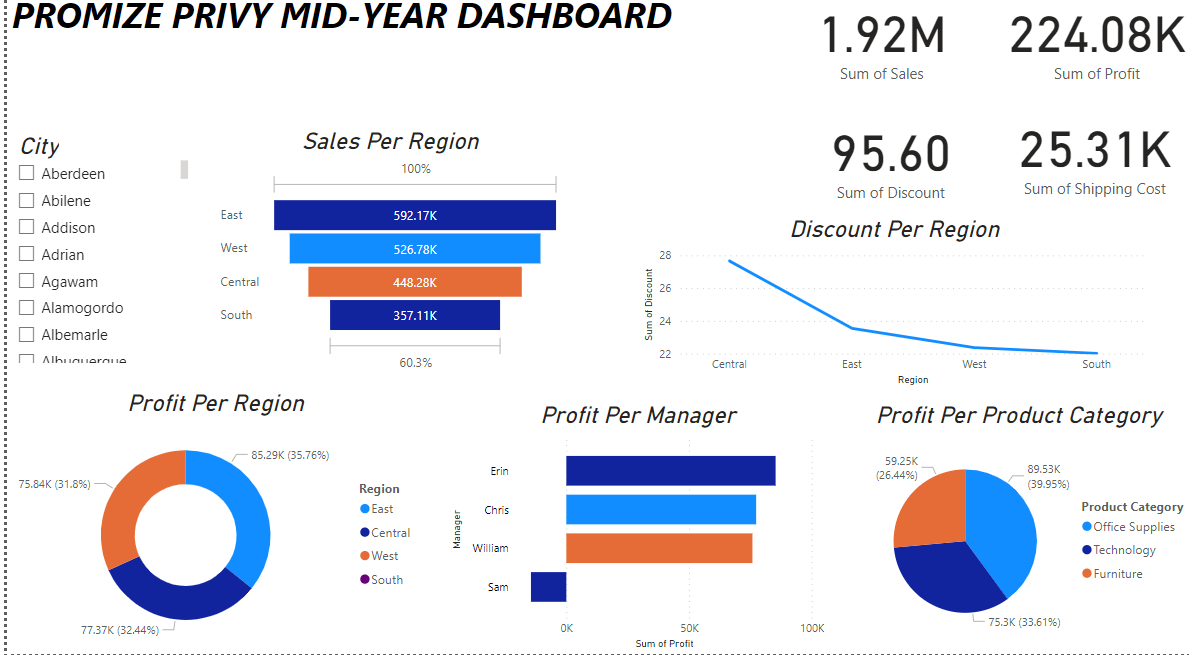

What the dashboard file says about the page in this screenshot:
{"tool":"powerbi","page":{"name":"Page 1","canvas":[1280,720],"ordinal":0},"visuals":[{"type":"donutChart","title":"Profit Per Region","fields":{"Y":["Orders.Profit"],"Category":["Orders.Region"]},"box":[0,435.2,449.8,284.8],"z":0},{"type":"clusteredBarChart","title":"Profit Per Manager","fields":{"Y":["Orders.Profit"],"Category":["Users.Manager"]},"box":[474.1,448.2,412.6,271.8],"z":1},{"type":"funnel","title":"Sales Per Region","fields":{"Y":["Orders.Sales"],"Category":["Orders.Region"]},"box":[224.9,152.1,377,268.6],"z":2},{"type":"slicer","fields":{"Values":["Orders.City"]},"box":[0,152.1,200.6,258.9],"z":3},{"type":"card","fields":{"Values":["Orders.Profit"]},"box":[1071.1,0,208.7,110],"z":4},{"type":"pieChart","title":"Profit Per Product Category","fields":{"Y":["Orders.Profit"],"Category":["Orders.Product Category"]},"box":[902.8,448.2,377,271.8],"z":5},{"type":"card","fields":{"Values":["Orders.Sales"]},"box":[828.4,0,229.8,110],"z":6},{"type":"card","fields":{"Values":["Orders.Shipping Cost"]},"box":[1066.2,124.6,213.6,110],"z":7},{"type":"card","fields":{"Values":["Orders.Discount"]},"box":[834.9,110,236.2,147.2],"z":8},{"type":"lineChart","title":" Discount Per Region","fields":{"Y":["Orders.Discount"],"Category":["Orders.Region"]},"box":[681.2,247.6,551.7,187.7],"z":9},{"type":"textbox","box":[0,0,834.9,110],"z":10}]}

Visuals, with their boxes in screenshot pixels (x1, y1, x2, y2), scaled from the page's 1280x720 canvas onto the 1192x655 screenshot:
"Profit Per Region" donutChart: (left=0, top=396, right=419, bottom=654)
"Profit Per Manager" clusteredBarChart: (left=442, top=408, right=826, bottom=654)
"Sales Per Region" funnel: (left=209, top=138, right=561, bottom=383)
slicer - Orders.City: (left=0, top=138, right=187, bottom=374)
card - Orders.Profit: (left=997, top=0, right=1191, bottom=100)
"Profit Per Product Category" pieChart: (left=841, top=408, right=1191, bottom=654)
card - Orders.Sales: (left=771, top=0, right=985, bottom=100)
card - Orders.Shipping Cost: (left=993, top=113, right=1191, bottom=213)
card - Orders.Discount: (left=778, top=100, right=997, bottom=234)
" Discount Per Region" lineChart: (left=634, top=225, right=1148, bottom=396)
textbox: (left=0, top=0, right=778, bottom=100)
